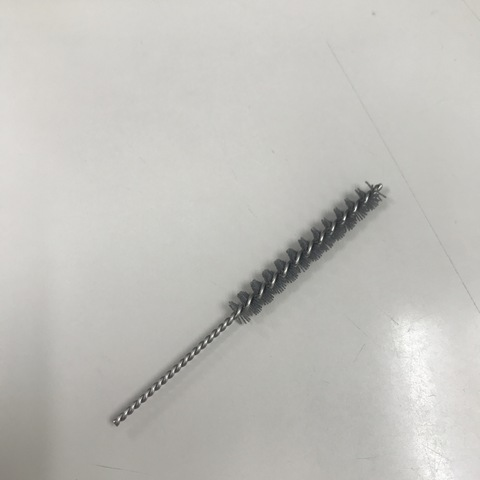Twist Brush-A: (110, 179, 391, 437)
